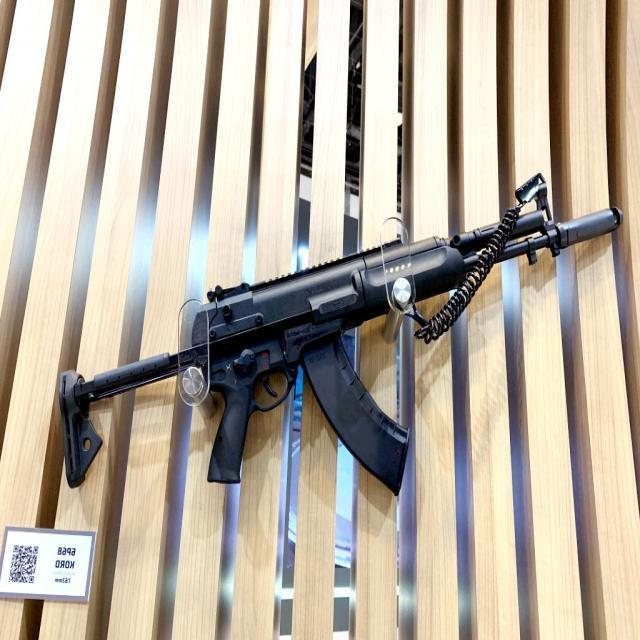rifle: (58, 159, 627, 516)
